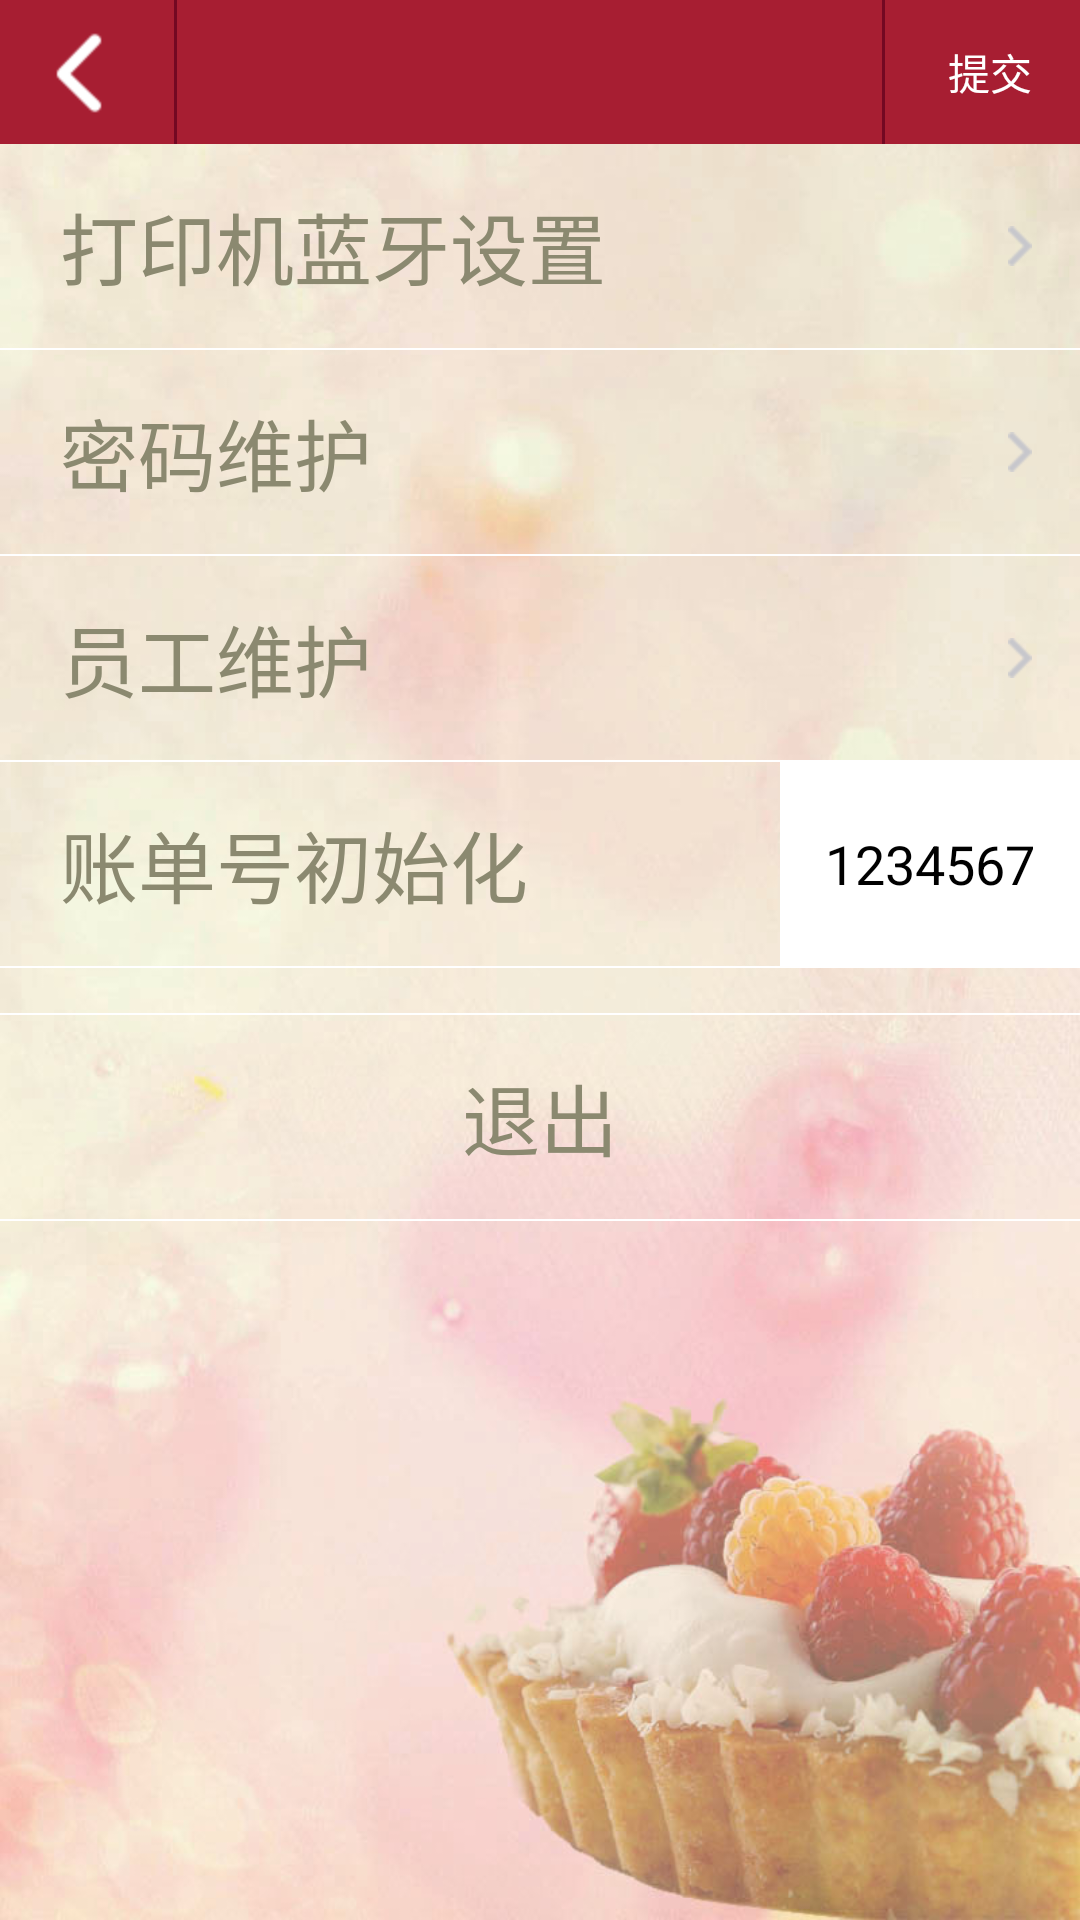

Screen size 1080w x 1920h. Icon name, then its center in pixels as [x,y]:
back: [87,72]
